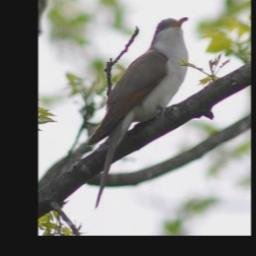Cuckoo: (85, 16, 190, 212)
